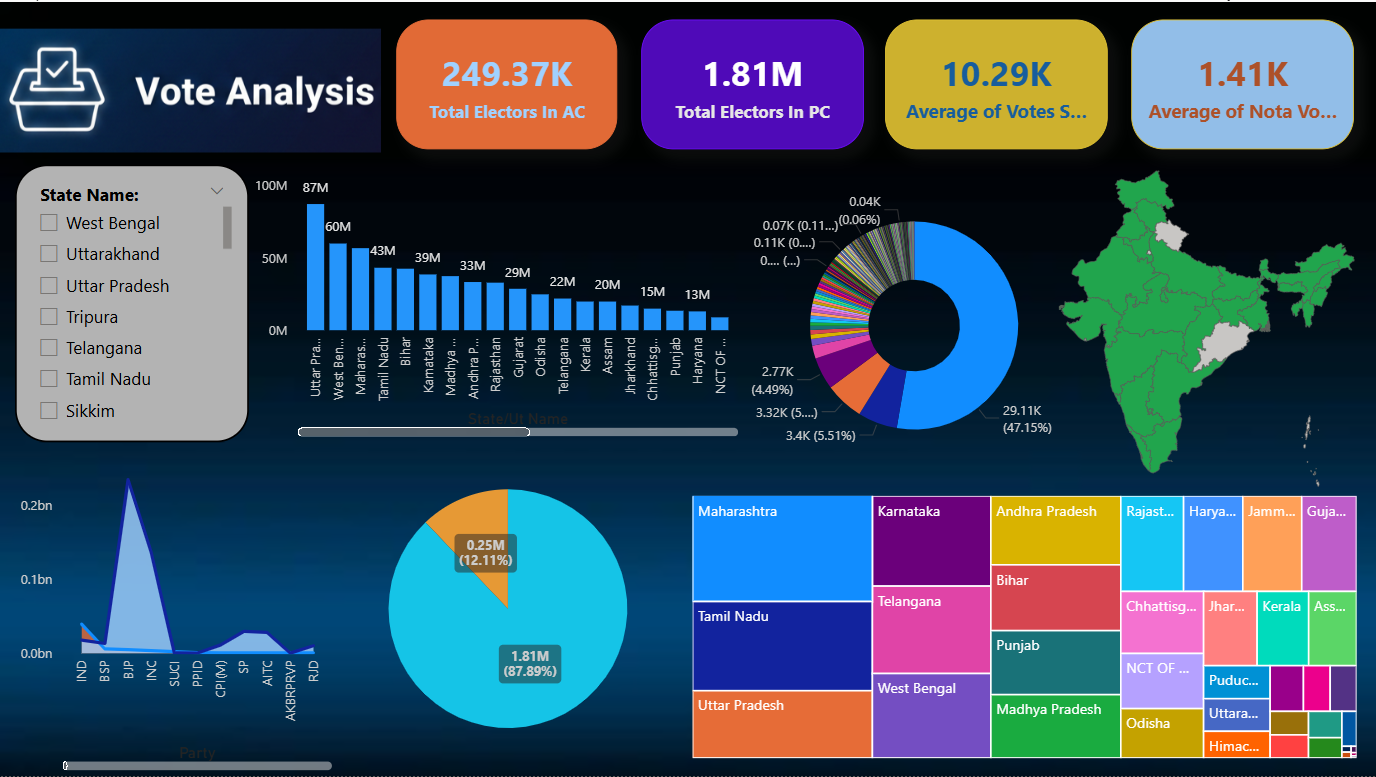

This screenshot's page, from the dashboard's own definition file:
{"tool":"powerbi","page":{"name":"Page 1","canvas":[1280,720],"ordinal":0},"visuals":[{"type":"card","fields":{"Values":["Avg(34_Details_Of_Assembly_Segment_Of_PC.Total Electors In AC)"]},"box":[368.6,16.3,205.8,120.9],"z":0},{"type":"card","fields":{"Values":["Avg(34_Details_Of_Assembly_Segment_Of_PC.Total Electors In PC)"]},"box":[596.5,16.3,207,120.9],"z":1000},{"type":"slicer","fields":{"Values":["34_Details_Of_Assembly_Segment_Of_PC.State/Ut Name"]},"box":[14,151.2,217.4,258.1],"z":2000},{"type":"card","fields":{"Values":["Avg(34_Details_Of_Assembly_Segment_Of_PC.Votes Secured Evm)"]},"box":[823.3,16.3,207,120.9],"z":3000},{"type":"lineClusteredColumnComboChart","fields":{"Category":["34_Details_Of_Assembly_Segment_Of_PC.State/Ut Name"],"Y":["Avg(34_Details_Of_Assembly_Segment_Of_PC.Total Valid Votes In State)"]},"box":[231.4,151.2,460.5,258.1],"z":4000},{"type":"pieChart","fields":{"Y":["Avg(34_Details_Of_Assembly_Segment_Of_PC.Total Electors In PC)","Avg(34_Details_Of_Assembly_Segment_Of_PC.Total Electors In AC)"]},"box":[245.3,409.3,454.7,310.5],"z":5000},{"type":"shapeMap","fields":{"Category":["34_Details_Of_Assembly_Segment_Of_PC.State/Ut Name"]},"box":[965.1,68.6,315.1,470.9],"z":6000},{"type":"treemap","fields":{"Group":["34_Details_Of_Assembly_Segment_Of_PC.State/Ut Name"],"Values":["CountNonNull(34_Details_Of_Assembly_Segment_Of_PC.Total Valid Votes In State)"]},"box":[640,455,627.5,253.8],"z":7000},{"type":"donutChart","fields":{"Category":["34_Details_Of_Assembly_Segment_Of_PC.Party"],"Y":["CountNonNull(34_Details_Of_Assembly_Segment_Of_PC.Votes Secured Evm)"]},"box":[691.9,137.2,317.4,327.9],"z":8000},{"type":"image","box":[0,0,354.7,165.1],"z":9000},{"type":"areaChart","fields":{"Category":["34_Details_Of_Assembly_Segment_Of_PC.Party"],"Y":["Sum(34_Details_Of_Assembly_Segment_Of_PC.Nota Votes Evm In AC)","Sum(34_Details_Of_Assembly_Segment_Of_PC.Votes Secured Evm)"]},"box":[14,419.8,300,300],"z":10000},{"type":"card","fields":{"Values":["Avg(34_Details_Of_Assembly_Segment_Of_PC.Nota Votes Evm In AC)"]},"box":[1052.3,16.3,207,120.9],"z":10001}]}

Visuals, with their boxes in screenshot pixels (x1, y1, x2, y2), scaled from the page's 1280x720 canvas onto the 1376x777 screenshot:
card - Avg(34_Details_Of_Assembly_Segment_Of_PC.Total Electors In AC): crop(396, 18, 617, 148)
card - Avg(34_Details_Of_Assembly_Segment_Of_PC.Total Electors In PC): crop(641, 18, 864, 148)
slicer - 34_Details_Of_Assembly_Segment_Of_PC.State/Ut Name: crop(15, 163, 249, 442)
card - Avg(34_Details_Of_Assembly_Segment_Of_PC.Votes Secured Evm): crop(885, 18, 1108, 148)
lineClusteredColumnComboChart - 34_Details_Of_Assembly_Segment_Of_PC.State/Ut Name x Avg(34_Details_Of_Assembly_Segment_Of_PC.Total Valid Votes In State): crop(249, 163, 744, 442)
pieChart - Avg(34_Details_Of_Assembly_Segment_Of_PC.Total Electors In PC) x Avg(34_Details_Of_Assembly_Segment_Of_PC.Total Electors In AC): crop(264, 442, 752, 776)
shapeMap - 34_Details_Of_Assembly_Segment_Of_PC.State/Ut Name: crop(1037, 74, 1375, 582)
treemap - 34_Details_Of_Assembly_Segment_Of_PC.State/Ut Name x CountNonNull(34_Details_Of_Assembly_Segment_Of_PC.Total Valid Votes In State): crop(688, 491, 1363, 765)
donutChart - 34_Details_Of_Assembly_Segment_Of_PC.Party x CountNonNull(34_Details_Of_Assembly_Segment_Of_PC.Votes Secured Evm): crop(744, 148, 1085, 502)
image: crop(0, 0, 381, 178)
areaChart - 34_Details_Of_Assembly_Segment_Of_PC.Party x Sum(34_Details_Of_Assembly_Segment_Of_PC.Nota Votes Evm In AC): crop(15, 453, 338, 776)
card - Avg(34_Details_Of_Assembly_Segment_Of_PC.Nota Votes Evm In AC): crop(1131, 18, 1354, 148)
